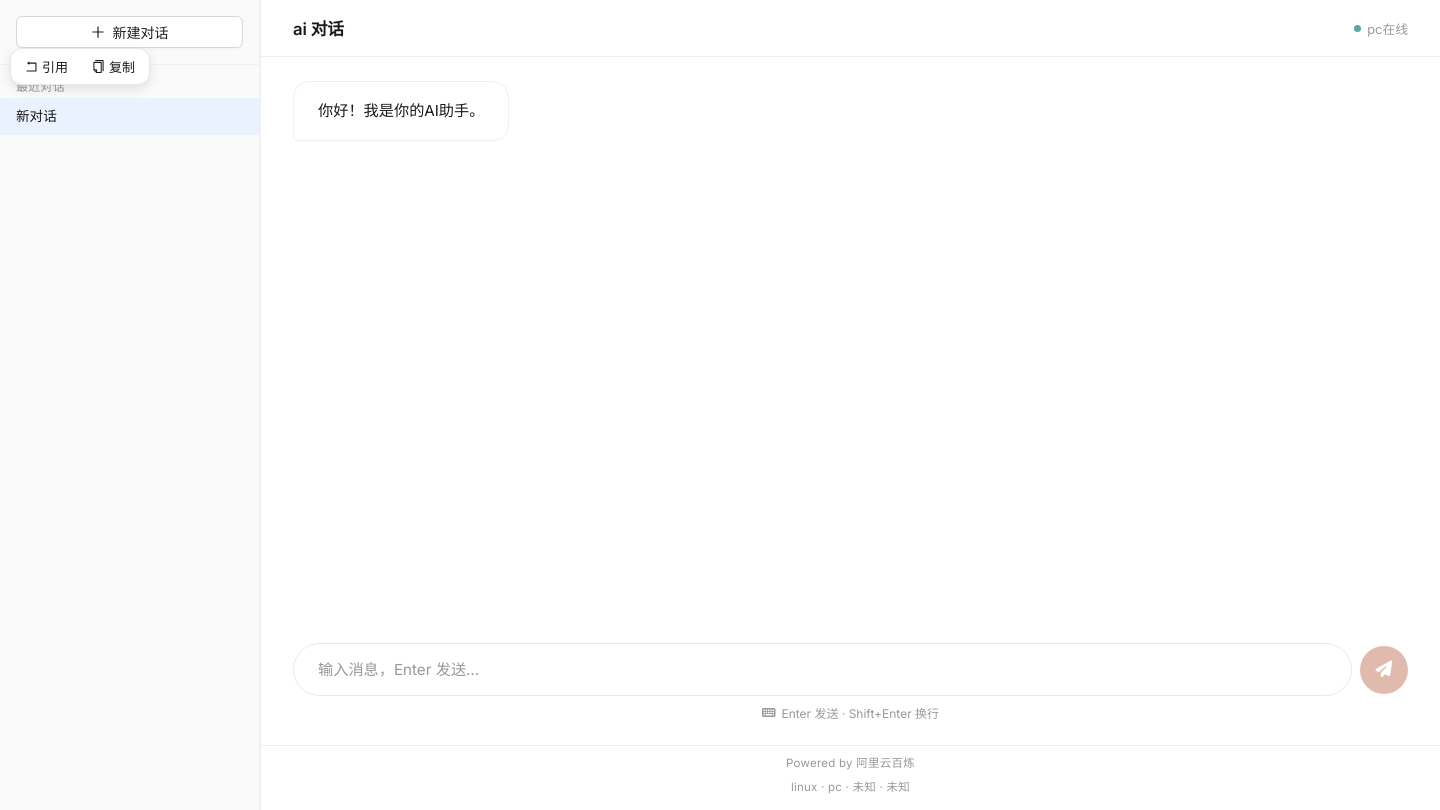
App 选区引用与复制 › 服务端返回错误事件时保留引用
Click the button "引用".
click(46, 66)  # box [15,53,78,80]
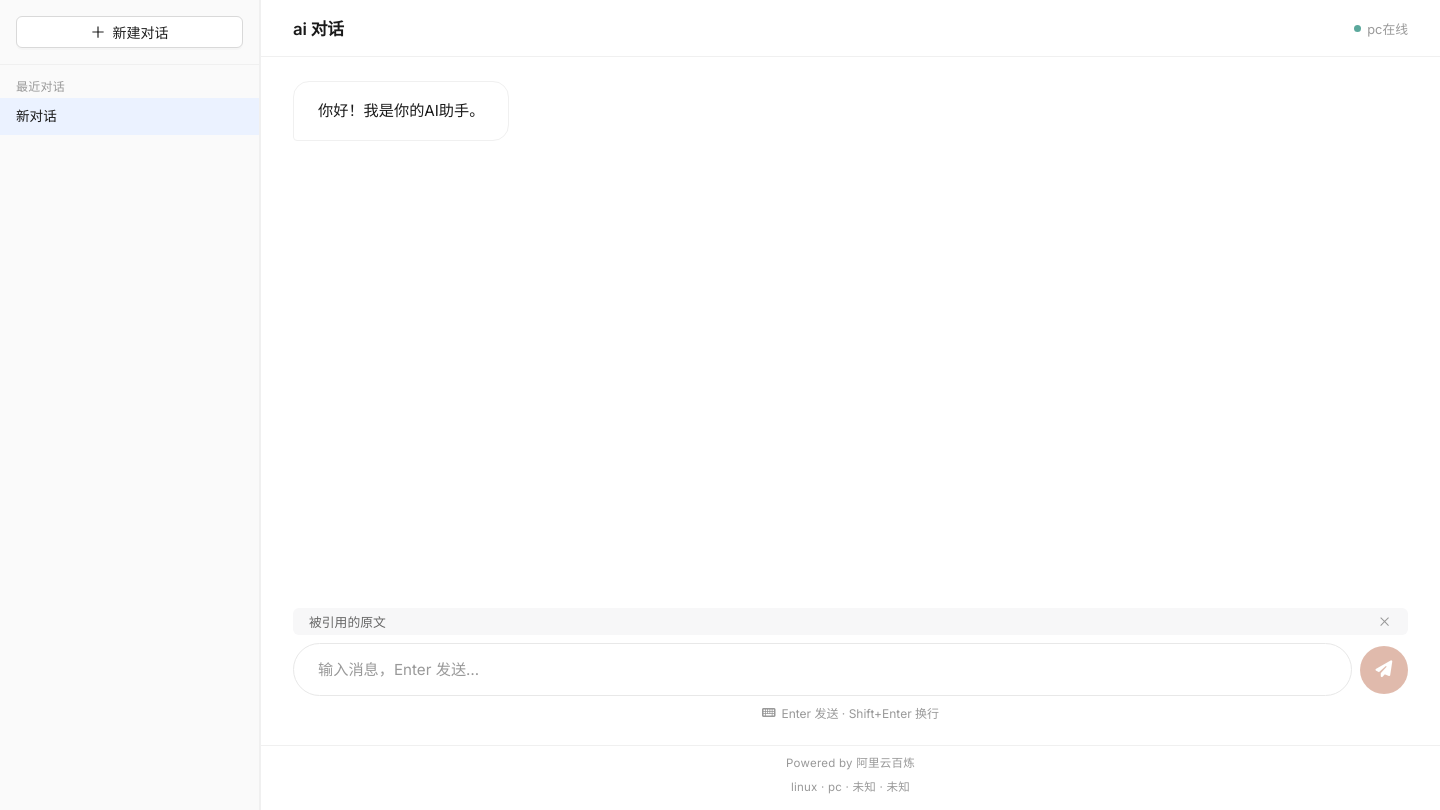
Type "帮我解释" into the field named "聊天输入框".
click(822, 670); type("帮我解释")  # box [293,643,1352,696]
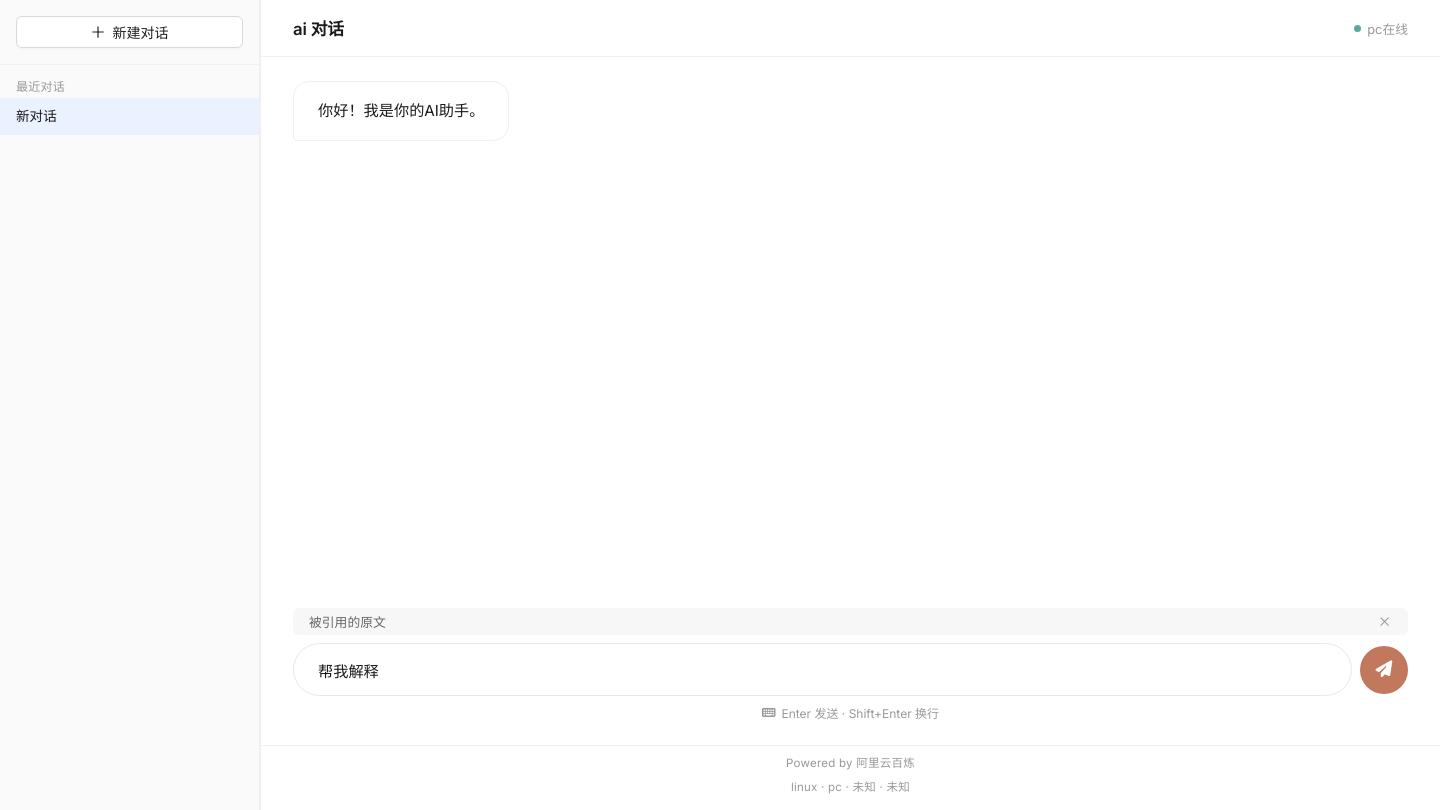
Click the button named "发送消息".
click(1384, 670)  # box [1360,646,1408,694]
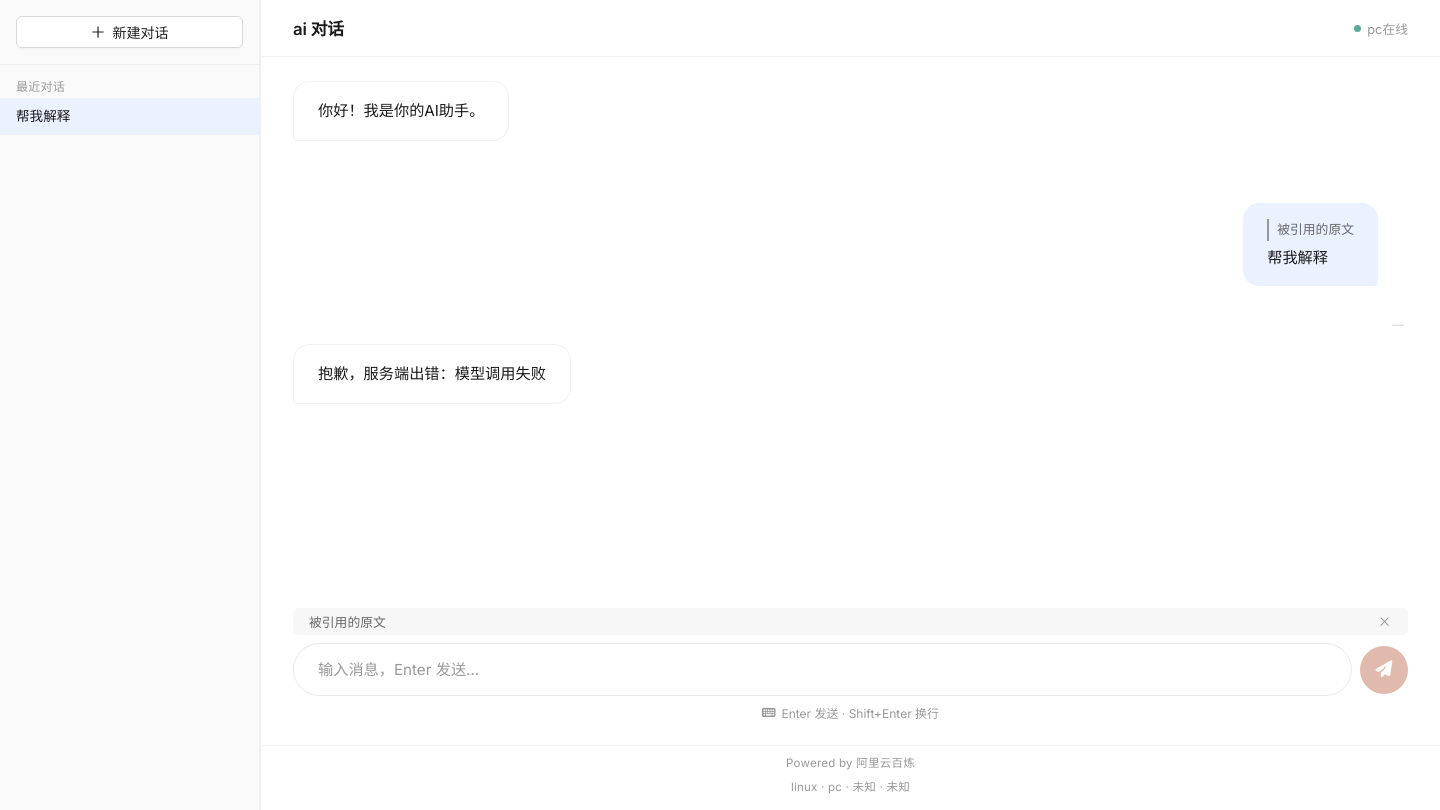
Check: the element showing "被引用的原文" is shown, box [293,608,1408,635]
Check: the text "抱歉，服务端出错：模型调用失败" is shown, box [318,361,546,387]
